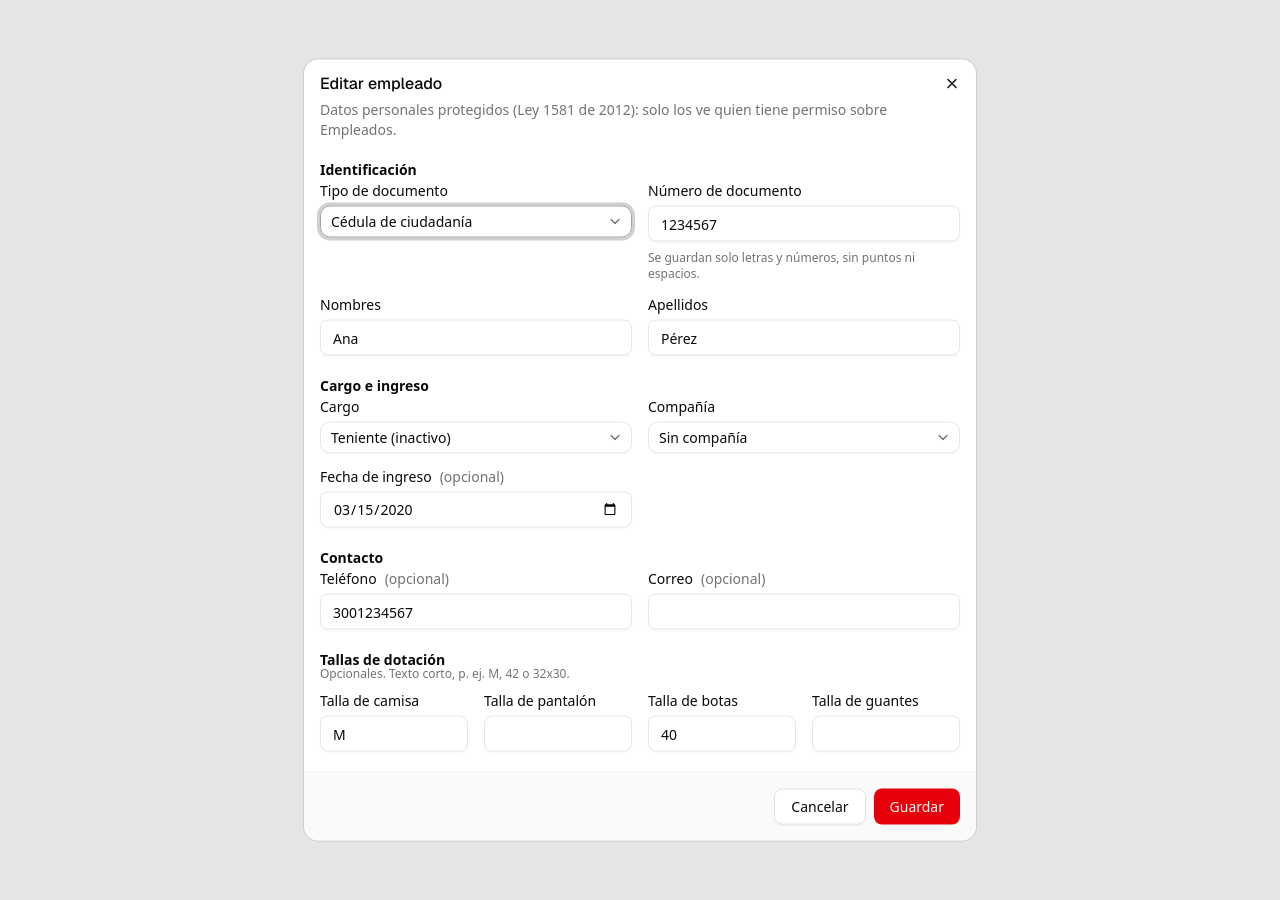
Test: EmployeeFormDialog (004 US1, FR-002, FR-003, RN-021) › muestra junto al campo el rechazo del servidor por documento duplicado (US1-2)
The image size is (1280, 900).
Click the button "Guardar" at (917, 806), box [874,788,960,824]
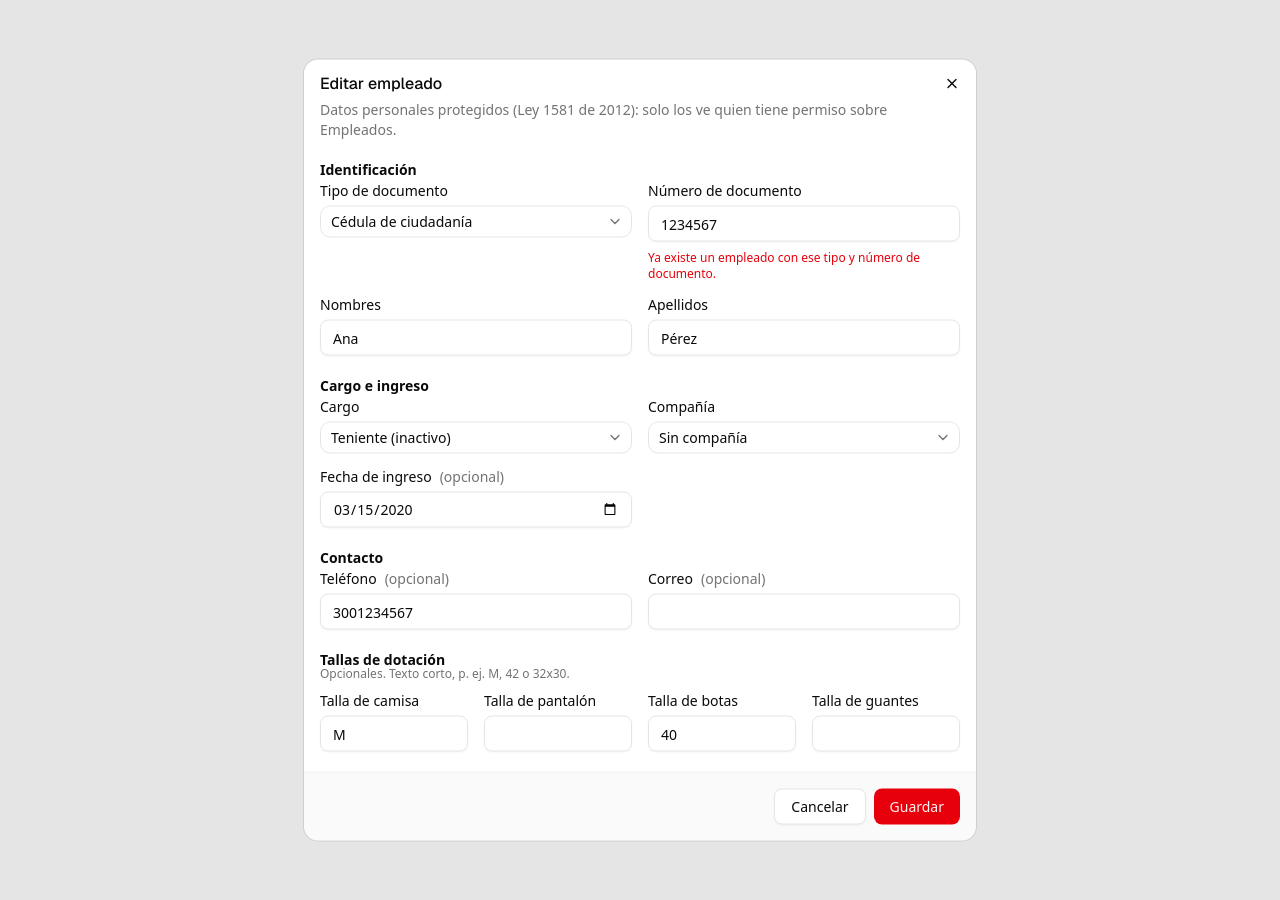
Expected: the text "Ya existe un empleado con ese tipo y número de documento." is shown, [648,250,960,282]
